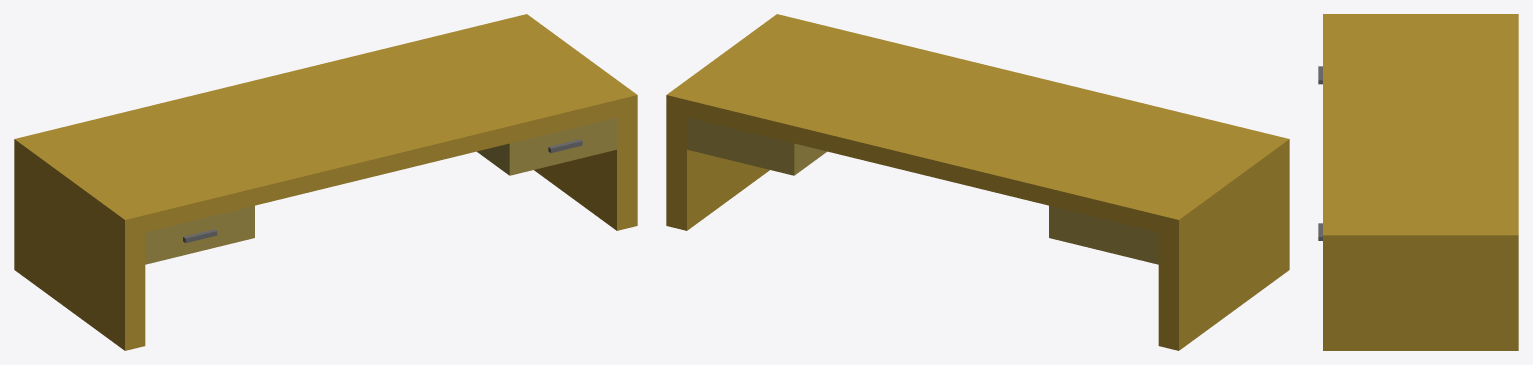
File: NightTable.fbx
3 views of the same model, side by side, from view 1: azimuth 30°, elevation 25°; view 2: azimuth 150°, elevation 25°; view 3: azimuth 270°, elevation 25° (orthographic). The views are drawn at different scales.
Parts seen in each view (by area): view 1: Cube.001; view 2: Cube.001; view 3: Cube.001.
Part boxes in pixels (x1,y1,x2,y2): Cube.001: [14, 14, 637, 350]; Cube.001: [666, 14, 1289, 350]; Cube.001: [1318, 14, 1518, 350].
Bounding box in the file's own units: 1386 × 339 × 530.
